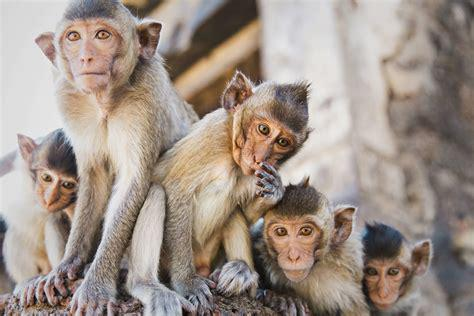monkey: (34, 1, 198, 305), (126, 73, 312, 316), (3, 132, 78, 306), (262, 185, 354, 316), (361, 224, 431, 316)
